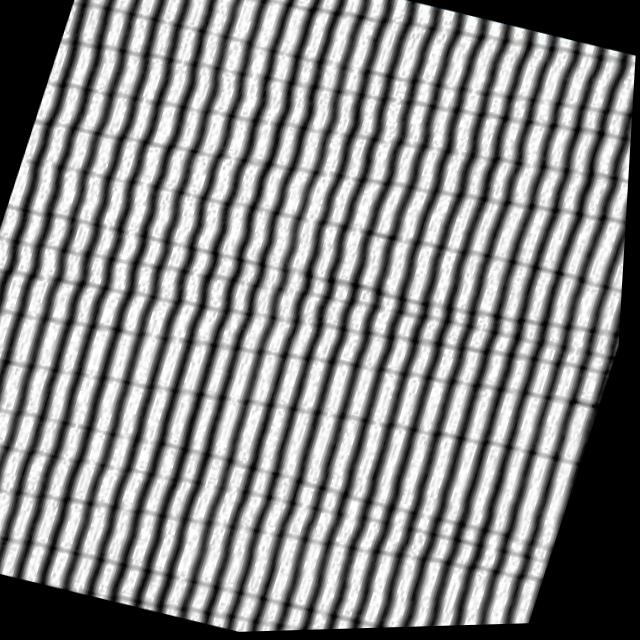Stitch: (151, 531, 540, 636)
